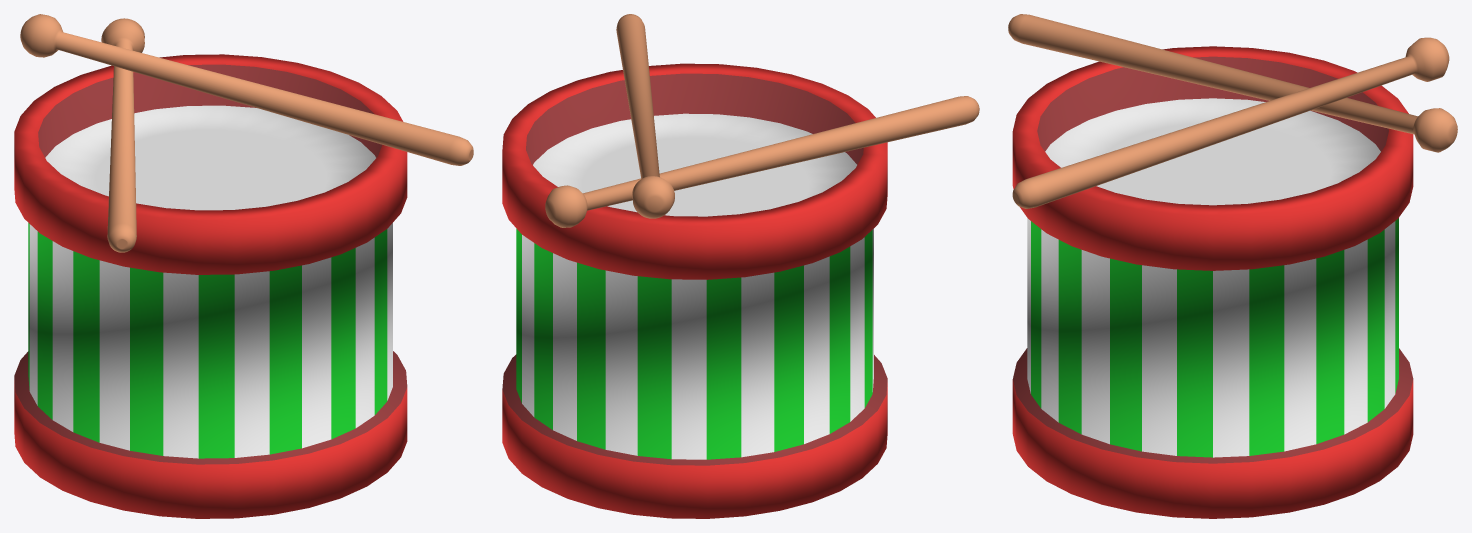
The model's file is Drum.fbx.
3 views of the same model, side by side, from view 1: azimuth 30°, elevation 25°; view 2: azimuth 150°, elevation 25°; view 3: azimuth 270°, elevation 25° (orthographic). The views are drawn at different scales.
Visible parts, largest first — view 1: RumpuFin; view 2: RumpuFin; view 3: RumpuFin.
Boxes of the visible parts, x1,y1,x2,y2 form: RumpuFin: (14,14,473,518); RumpuFin: (502,14,979,518); RumpuFin: (1008,14,1457,518).
Bounding box in the file's own units: 38.63 × 36.18 × 40.54.
